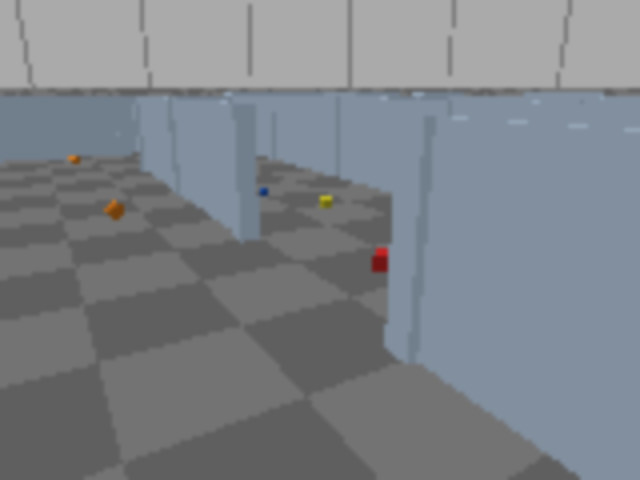puck: (100, 199, 128, 221), (373, 249, 393, 272)
